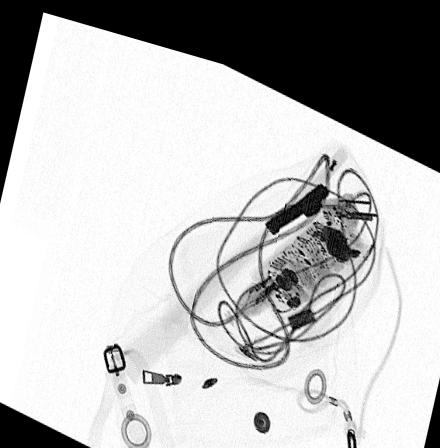Gun: (263, 160, 331, 219)
